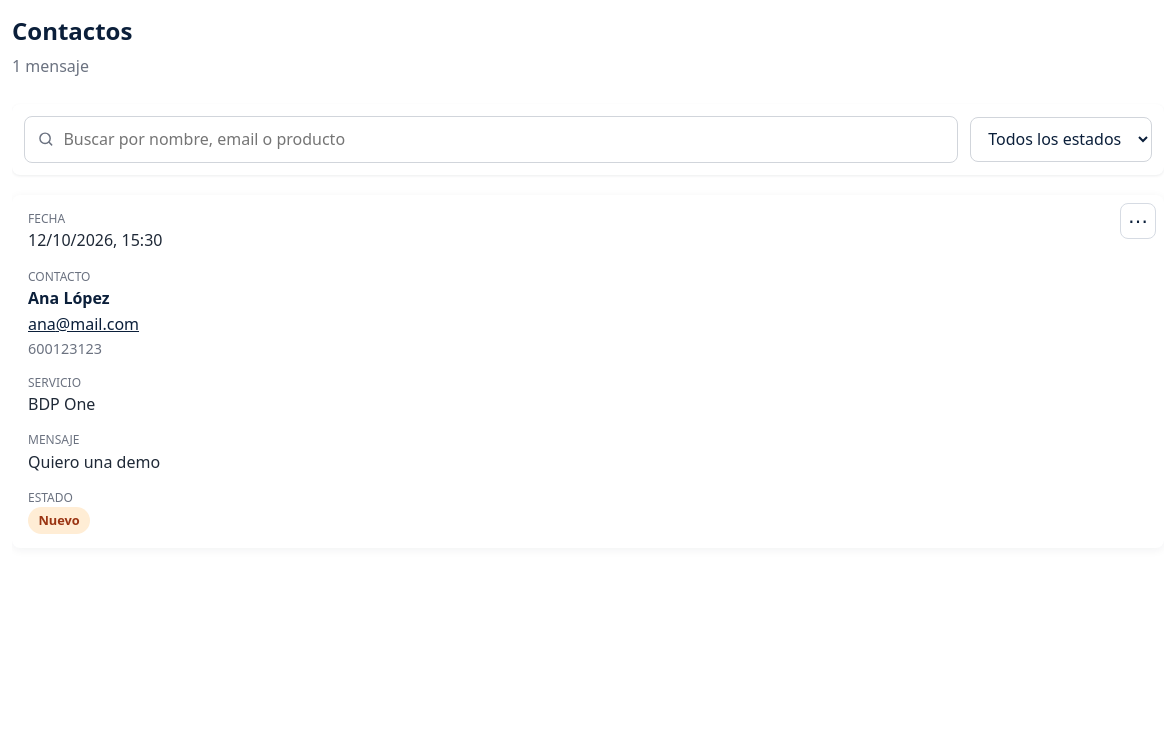
Test case: admin screens › Contactos: marks a new contact as contacted
The image size is (1164, 732).
Click the button with test id "row-actions" showing "⋯": [1138, 221] box [1120,203,1156,239]
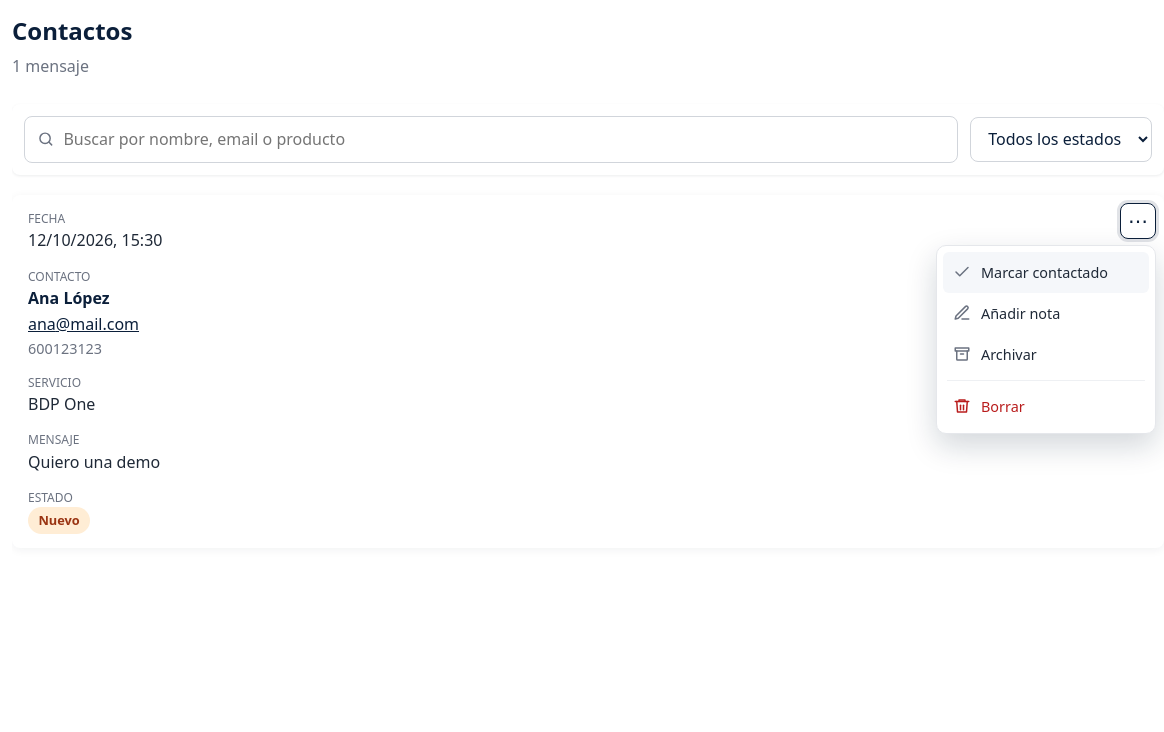
Click the menu item "Marcar contactado": [1046, 272] box [943,252,1149,293]
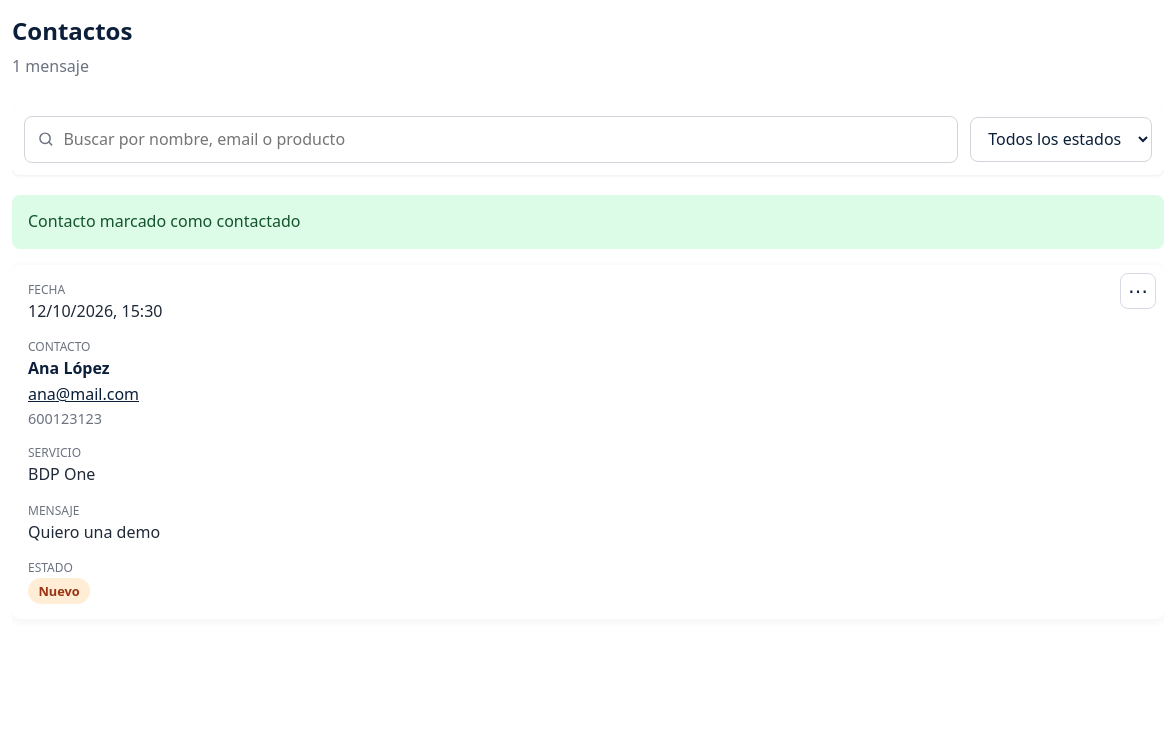
Expected: the message "Contacto marcado como contactado" is shown, [12,195,1163,249]
